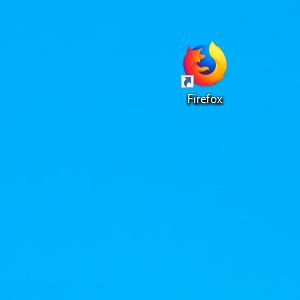firefox: (181, 41, 228, 89)
